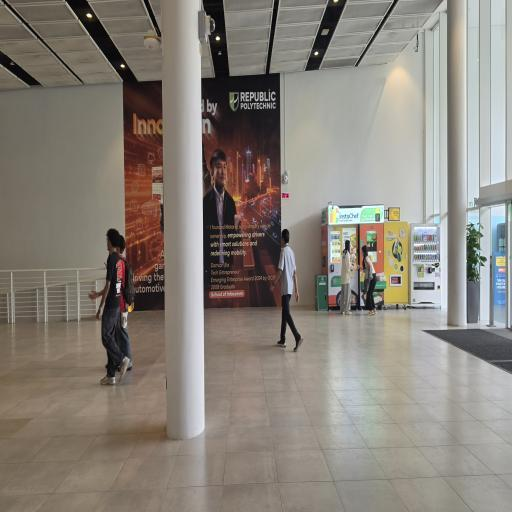person_left: (273, 222, 306, 358), (114, 228, 134, 380), (104, 220, 122, 386), (359, 240, 379, 319)
person_right: (340, 234, 354, 319)
